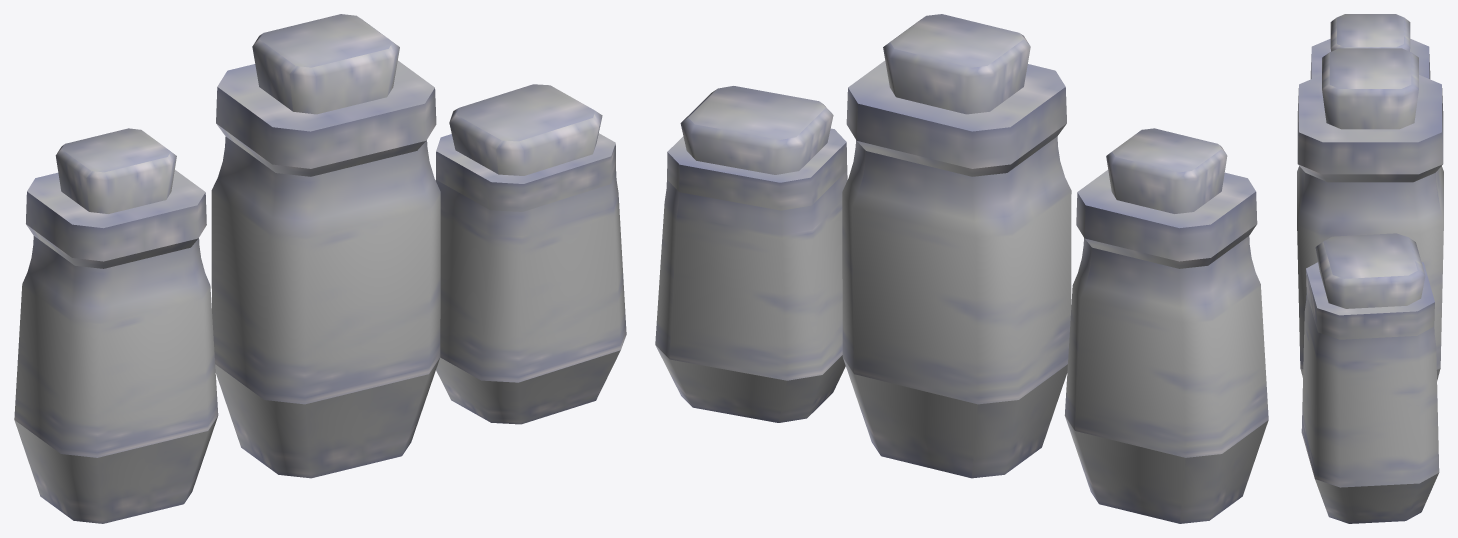
The model's file is small_bottles_1.glb.
3 views of the same model, side by side, from view 1: azimuth 30°, elevation 25°; view 2: azimuth 150°, elevation 25°; view 3: azimuth 270°, elevation 25° (orthographic). The views are drawn at different scales.
Parts seen in each view (by area): view 1: SmallBottles_1; view 2: SmallBottles_1; view 3: SmallBottles_1.
Part boxes in pixels (box(x1,y1,x2,y2)): SmallBottles_1: box(14, 14, 626, 523); SmallBottles_1: box(655, 14, 1268, 523); SmallBottles_1: box(1297, 14, 1443, 523).
Bounding box in the file's own units: 0.2151 × 0.1454 × 0.0558.
Materials: 1 (1 with a texture image).
